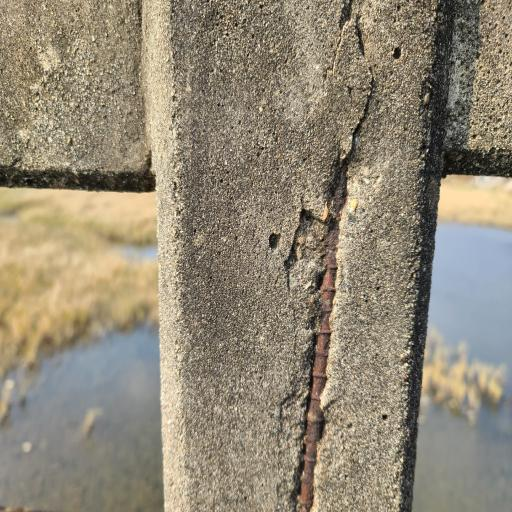exposed_rebar: (298, 165, 347, 512)
spalling: (279, 159, 346, 512)
